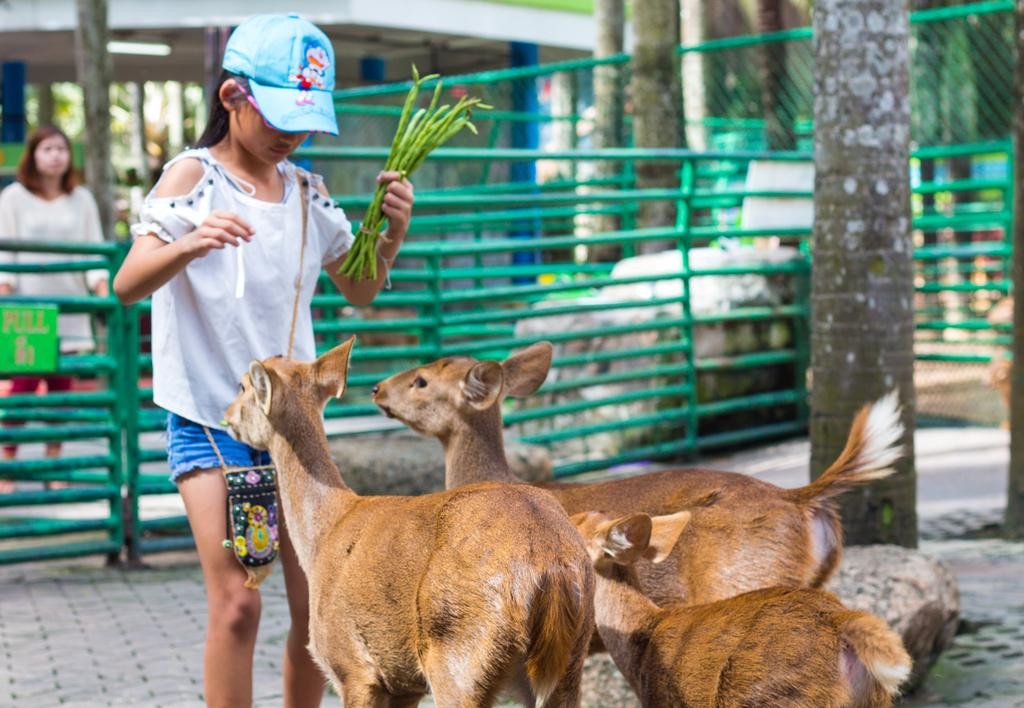Hat: (220, 11, 340, 136)
